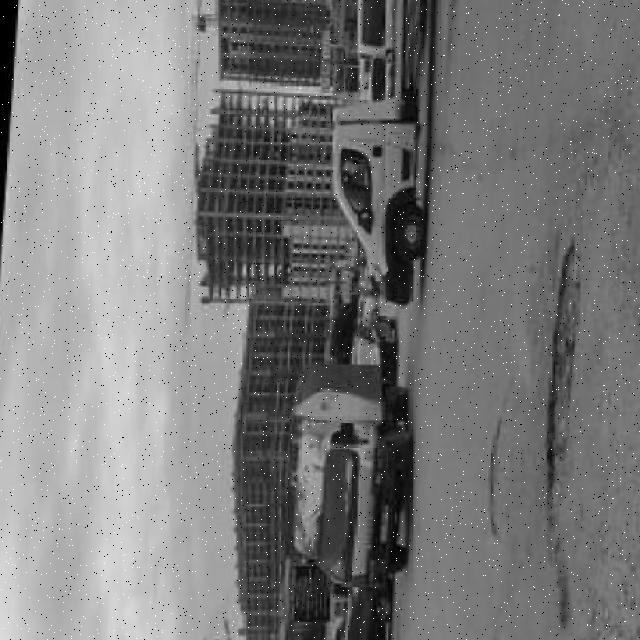pothole: (547, 241, 579, 504)
